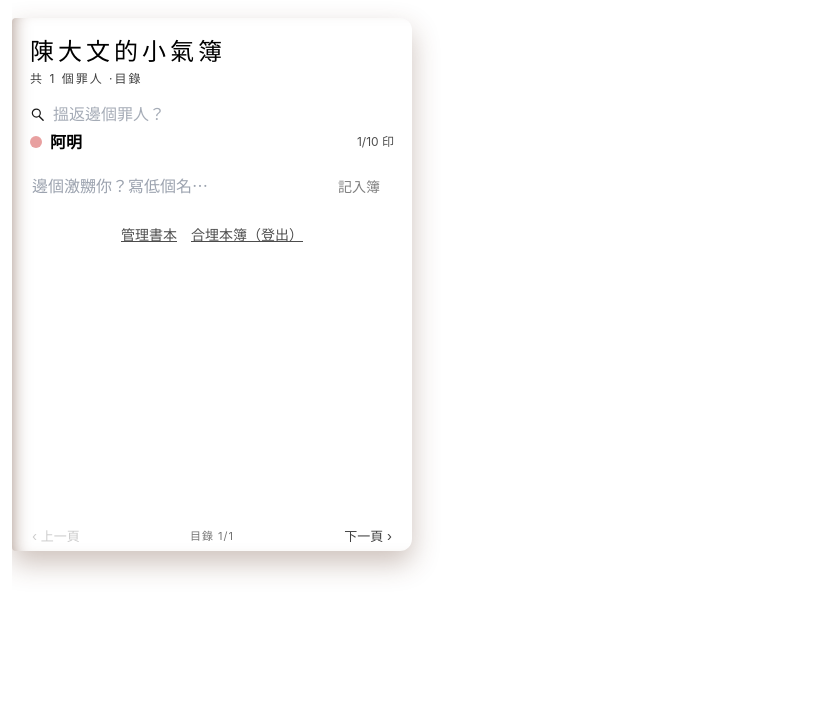
Test: 未寄出嘅嬲爆事寫成鉛筆稿，寄咗嗰啲照樣落墨
Click the button "下一頁 ›": (368, 536) 340,524 -> 396,548
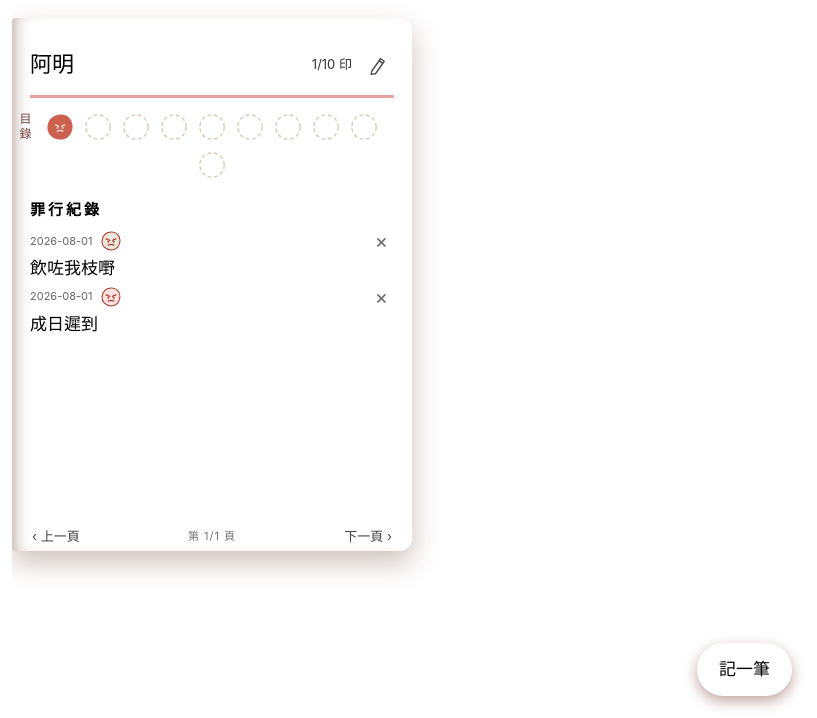
Expected: the heading "阿明" is shown, 30,51 -> 74,77
Expected: the number of elements with class "shb-pending" is 2, 30,226 -> 394,256; 30,258 -> 115,278
